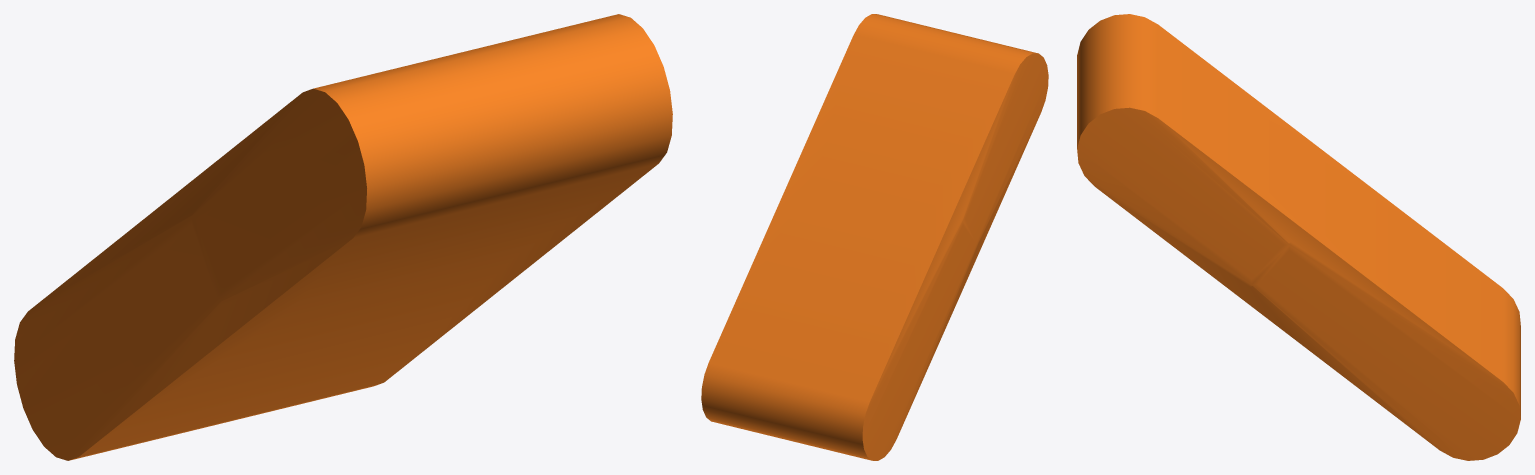
3 renders of one model, left to right at view 1: azimuth 30°, elevation 25°; view 2: azimuth 150°, elevation 25°; view 3: azimuth 270°, elevation 25°, orthographic. The views are drawn at different scales.
Parts seen in each view (by area): view 1: gripper_frame; view 2: gripper_frame; view 3: gripper_frame.
Boxes of the visible parts, <box> form: gripper_frame: <box>14,14,672,460</box>; gripper_frame: <box>701,14,1048,460</box>; gripper_frame: <box>1077,14,1520,460</box>.
Size of the model in its own units: 0.0281 by 0.0474 by 0.054.
